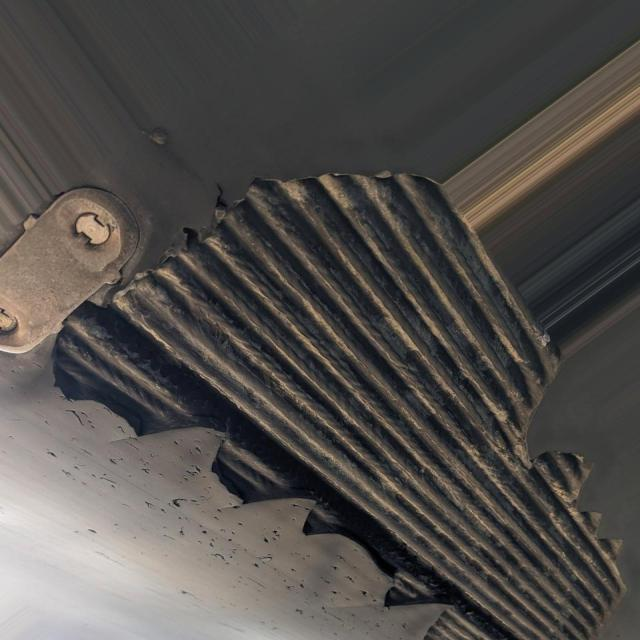Tear: (40, 159, 638, 640)
